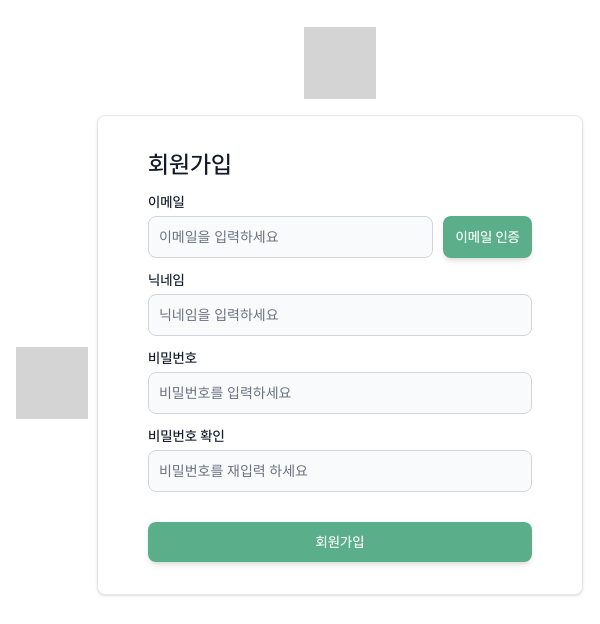
Test: SignupPage › displays error message for invalid email
Type "invalid-email" into the field with placeholder "이메일을 입력하세요" at {"x": 264, "y": 237}, box [149,227,379,247]
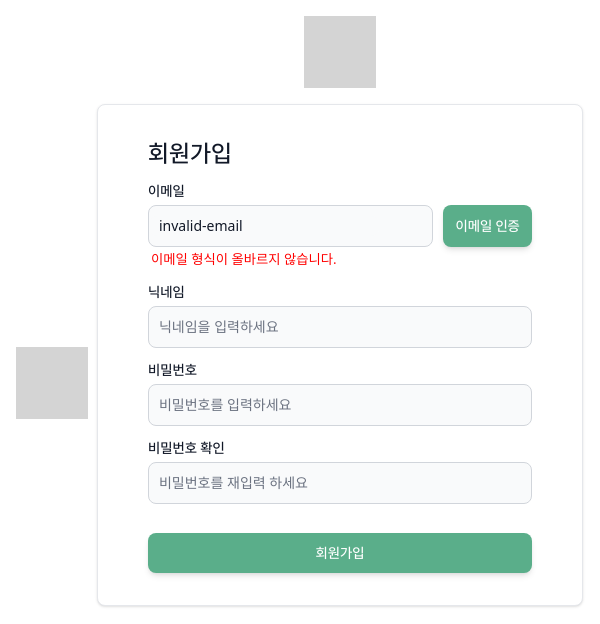
Expected: the text "이메일 형식이 올바르지 않습니다." is shown, [151,250,337,268]
